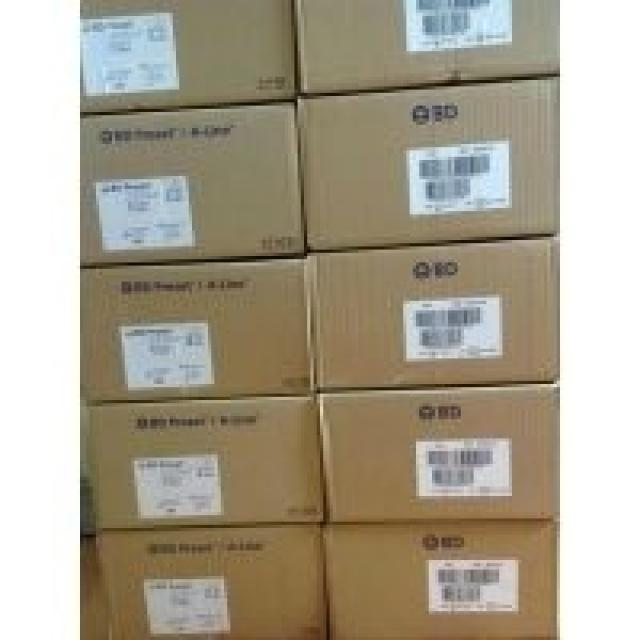box: (297, 75, 563, 257), (307, 235, 559, 393), (80, 101, 307, 265), (78, 392, 329, 539), (79, 256, 320, 405), (322, 384, 559, 521), (80, 521, 333, 637), (292, 1, 563, 101), (328, 521, 559, 637), (80, 1, 299, 113)
